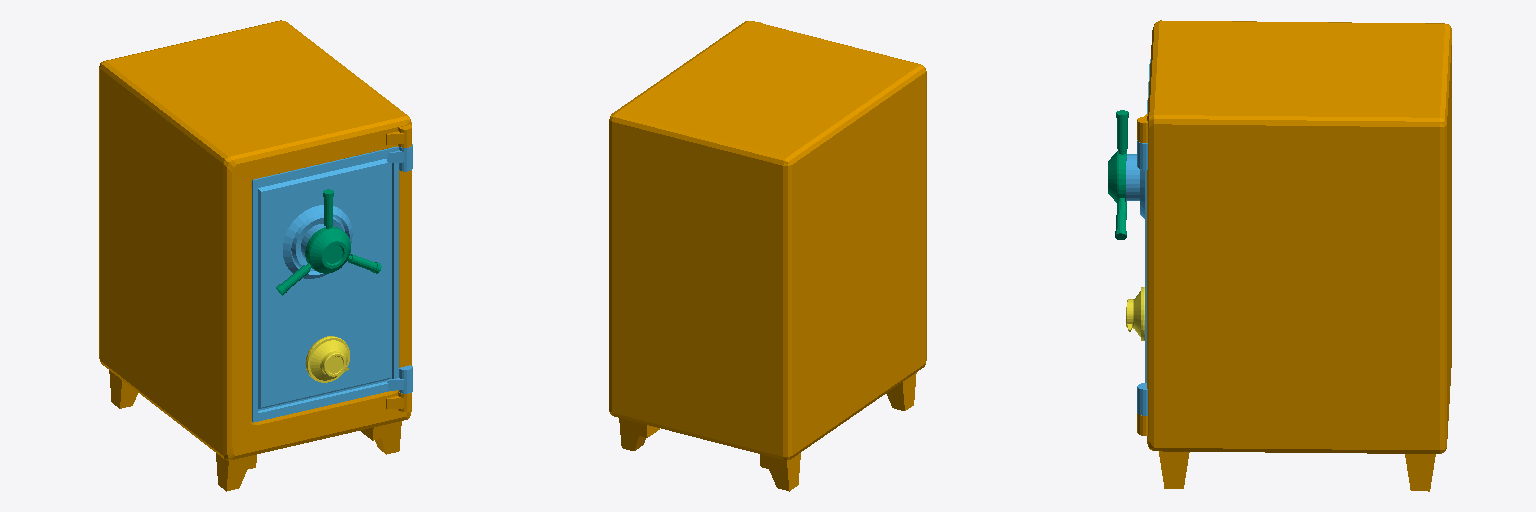
URDF robot description (safe):
<?xml version='1.0' encoding='utf-8'?>
<robot name="safe">
  <link name="link_1_base">
    <inertial>
      <origin xyz="0.000736521 0.0253936 0.00323576" rpy="0 0 0" />
      <mass value="60" />
      <inertia ixx="2.72575" ixy="0.00165928" ixz="-0.000939168" iyy="2.34677" iyz="0.00370472" izz="1.54771" />
    </inertial>
    <visual>
      <origin xyz="-0.000000 -0.000000 -0.000000" rpy="0 0 0" />
      <geometry>
        <mesh filename="objs/1_base__Safe.obj" />
      </geometry>
    </visual>
    <visual>
      <origin xyz="-0.000000 -0.000000 -0.000000" rpy="0 0 0" />
      <geometry>
        <mesh filename="objs/1_base__lambert2SG.obj" />
      </geometry>
    </visual>
    <collision>
      <origin xyz="0 0.20755 0" rpy="0 0 0" />
      <geometry>
        <box size="0.3538 0.0851 0.6" />
      </geometry>
    </collision>
    <collision>
      <origin xyz="-0.16145 -0.02105 0" rpy="0 0 0" />
      <geometry>
        <box size="0.0309 0.3721 0.6" />
      </geometry>
    </collision>
    <collision>
      <origin xyz="0.16145 -0.02105 0" rpy="0 0 0" />
      <geometry>
        <box size="0.0309 0.3721 0.6" />
      </geometry>
    </collision>
    <collision>
      <origin xyz="0 -0.02105 0.2895" rpy="0 0 0" />
      <geometry>
        <box size="0.292 0.3721 0.021" />
      </geometry>
    </collision>
    <collision>
      <origin xyz="0 -0.02105 -0.2405" rpy="0 0 0" />
      <geometry>
        <box size="0.292 0.3721 0.119" />
      </geometry>
    </collision>
  </link>
  <link name="link_2_door">
    <inertial>
      <origin xyz="-0.126866 0.0197419 0.00325622" rpy="0 0 0" />
      <mass value="12" />
      <inertia ixx="0.156881" ixy="0.00261354" ixz="0.00180437" iyy="0.218659" iyz="0.00152821" izz="0.0688513" />
    </inertial>
    <visual>
      <origin xyz="-0.141823 0.203192 -0.041625" rpy="0 0 0" />
      <geometry>
        <mesh filename="objs/2_door__clothes1.obj" />
      </geometry>
    </visual>
    <visual>
      <origin xyz="-0.141823 0.203192 -0.041625" rpy="0 0 0" />
      <geometry>
        <mesh filename="objs/2_door__outline1.obj" />
      </geometry>
    </visual>
    <visual>
      <origin xyz="-0.141823 0.203192 -0.041625" rpy="0 0 0" />
      <geometry>
        <mesh filename="objs/2_door__Material.007.obj" />
      </geometry>
    </visual>
    <visual>
      <origin xyz="-0.141823 0.203192 -0.041625" rpy="0 0 0" />
      <geometry>
        <mesh filename="objs/2_door__SVGMat.086.obj" />
      </geometry>
    </visual>
    <visual>
      <origin xyz="-0.141823 0.203192 -0.041625" rpy="0 0 0" />
      <geometry>
        <mesh filename="objs/2_door__skin.obj" />
      </geometry>
    </visual>
    <visual>
      <origin xyz="-0.141823 0.203192 -0.041625" rpy="0 0 0" />
      <geometry>
        <mesh filename="objs/2_door__details.obj" />
      </geometry>
    </visual>
    <visual>
      <origin xyz="-0.141823 0.203192 -0.041625" rpy="0 0 0" />
      <geometry>
        <mesh filename="objs/2_door__lambert2SG.obj" />
      </geometry>
    </visual>
    <visual>
      <origin xyz="-0.141823 0.203192 -0.041625" rpy="0 0 0" />
      <geometry>
        <mesh filename="objs/2_door__Safe.obj" />
      </geometry>
    </visual>
    <collision>
      <origin xyz="-0.126673 0.0286924 -0.00367523" rpy="0 0 0" />
      <geometry>
        <box size="0.2907 0.041 0.4355" />
      </geometry>
    </collision>
    <collision>
      <origin xyz="-0.155123 -0.00740762 0.0791748" rpy="1.5708 0 0" />
      <geometry>
        <cylinder radius="0.039" length="0.0256" />
      </geometry>
    </collision>
  </link>
  <link name="link_3_handle">
    <inertial>
      <origin xyz="0.000565301 0.00525563 -0.00136452" rpy="0 0 0" />
      <mass value="0.8" />
      <inertia ixx="0.00120928" ixy="2.64866e-05" ixz="7.74323e-08" iyy="0.00233235" iyz="7.2514e-07" izz="0.0012086" />
    </inertial>
    <visual>
      <origin xyz="0.013587 0.236831 -0.121368" rpy="0 0 0" />
      <geometry>
        <mesh filename="objs/3_handle__lambert2SG.obj" />
      </geometry>
    </visual>
    <visual>
      <origin xyz="0.013587 0.236831 -0.121368" rpy="0 0 0" />
      <geometry>
        <mesh filename="objs/3_handle__Safe.obj" />
      </geometry>
    </visual>
    <collision>
      <origin xyz="0 0 0" rpy="0 0 0" />
      <geometry>
        <mesh filename="collision/link_3_handle/link_3_handle_0.obj" />
      </geometry>
    </collision>
    <collision>
      <origin xyz="0 0 0" rpy="0 0 0" />
      <geometry>
        <mesh filename="collision/link_3_handle/link_3_handle_1.obj" />
      </geometry>
    </collision>
    <collision>
      <origin xyz="0 0 0" rpy="0 0 0" />
      <geometry>
        <mesh filename="collision/link_3_handle/link_3_handle_2.obj" />
      </geometry>
    </collision>
    <collision>
      <origin xyz="0 0 0" rpy="0 0 0" />
      <geometry>
        <mesh filename="collision/link_3_handle/link_3_handle_3.obj" />
      </geometry>
    </collision>
    <collision>
      <origin xyz="0 0 0" rpy="0 0 0" />
      <geometry>
        <mesh filename="collision/link_3_handle/link_3_handle_4.obj" />
      </geometry>
    </collision>
    <collision>
      <origin xyz="0 0 0" rpy="0 0 0" />
      <geometry>
        <mesh filename="collision/link_3_handle/link_3_handle_5.obj" />
      </geometry>
    </collision>
    <collision>
      <origin xyz="0 0 0" rpy="0 0 0" />
      <geometry>
        <mesh filename="collision/link_3_handle/link_3_handle_6.obj" />
      </geometry>
    </collision>
    <collision>
      <origin xyz="0 0 0" rpy="0 0 0" />
      <geometry>
        <mesh filename="collision/link_3_handle/link_3_handle_7.obj" />
      </geometry>
    </collision>
    <collision>
      <origin xyz="0 0 0" rpy="0 0 0" />
      <geometry>
        <mesh filename="collision/link_3_handle/link_3_handle_8.obj" />
      </geometry>
    </collision>
    <collision>
      <origin xyz="0 0 0" rpy="0 0 0" />
      <geometry>
        <mesh filename="collision/link_3_handle/link_3_handle_9.obj" />
      </geometry>
    </collision>
  </link>
  <link name="link_4_dial_lock">
    <inertial>
      <origin xyz="2.23445e-05 0.00312264 -0.000102733" rpy="0 0 0" />
      <mass value="0.15" />
      <inertia ixx="5.48795e-05" ixy="1.39771e-06" ixz="8.64965e-07" iyy="9.23954e-05" iyz="-3.09701e-07" izz="5.58295e-05" />
    </inertial>
    <visual>
      <origin xyz="-0.004134 0.207767 0.089971" rpy="0 0 0" />
      <geometry>
        <mesh filename="objs/4_dial_lock__Safe.obj" />
      </geometry>
    </visual>
    <collision>
      <origin xyz="-0.00018431 0.00036705 0.0001209" rpy="1.5708 0 0" />
      <geometry>
        <cylinder radius="0.03975" length="0.031" />
      </geometry>
    </collision>
  </link>
  <link name="link_5_shelf">
    <inertial>
      <origin xyz="-0.0001104 0.0411734 0.0986736" rpy="0 0 0" />
      <mass value="1" />
      <inertia ixx="0.0115987" ixy="-6.75682e-05" ixz="6.33419e-11" iyy="0.00878261" iyz="2.64148e-09" izz="0.0203716" />
    </inertial>
    <visual>
      <origin xyz="-0.000000 -0.000000 -0.000000" rpy="0 0 0" />
      <geometry>
        <mesh filename="objs/5_shelf__lambert2SG.obj" />
      </geometry>
    </visual>
    <collision>
      <origin xyz="0 0.04115 0.0987" rpy="0 0 0" />
      <geometry>
        <box size="0.3334 0.3807 0.0076" />
      </geometry>
    </collision>
  </link>
  <link name="link_6_shelf">
    <inertial>
      <origin xyz="-0.00011041 0.0411731 -0.0259452" rpy="0 0 0" />
      <mass value="1" />
      <inertia ixx="0.0116052" ixy="-6.75678e-05" ixz="5.67334e-11" iyy="0.00878905" iyz="2.32824e-09" izz="0.0203716" />
    </inertial>
    <visual>
      <origin xyz="-0.000000 -0.000000 -0.000000" rpy="0 0 0" />
      <geometry>
        <mesh filename="objs/6_shelf__lambert2SG.obj" />
      </geometry>
    </visual>
    <collision>
      <origin xyz="0 0.04115 -0.02595" rpy="0 0 0" />
      <geometry>
        <box size="0.3334 0.3807 0.0117" />
      </geometry>
    </collision>
  </link>
  <joint name="joint_2_to_1" type="revolute">
    <parent link="link_1_base" />
    <child link="link_2_door" />
    <origin xyz="0.14182338282039006 -0.2031923781376853 0.04162522724744737" rpy="0 0 0" />
    <axis xyz="0.0 6.123233995736766e-17 1.0" />
    <limit lower="0.0" upper="1.5707963267948966" effort="200" velocity="5.0" />
    <dynamics damping="5" friction="3" />
  </joint>
  <joint name="joint_3_to_2" type="revolute">
    <parent link="link_2_door" />
    <child link="link_3_handle" />
    <origin xyz="-0.15541042031830293 -0.03363812861737381 0.0797423121375244" rpy="0 0 0" />
    <axis xyz="0.0239727464990573 0.9997126124168345 -6.121474254317575e-17" />
    <limit lower="-3.141592653589793" upper="3.141592653589793" effort="50" velocity="5.0" />
    <dynamics damping="0.2" friction="0.3" />
  </joint>
  <joint name="joint_4_to_2" type="continuous">
    <parent link="link_2_door" />
    <child link="link_4_dial_lock" />
    <origin xyz="-0.1376890652247409 -0.004574665114765647 -0.1315961310156849" rpy="0 0 0" />
    <axis xyz="0.041541431785496415 0.999127160954473 -0.00438471073911912" />
    <limit effort="5" />
    <dynamics damping="0.02" friction="0.02" />
  </joint>
  <joint name="joint_5_to_1" type="fixed">
    <parent link="link_1_base" />
    <child link="link_5_shelf" />
    <origin xyz="0.000000 0.000000 0.000000" rpy="0.000000 -0.000000 0.000000" />
  </joint>
  <joint name="joint_6_to_1" type="fixed">
    <parent link="link_1_base" />
    <child link="link_6_shelf" />
    <origin xyz="0.000000 0.000000 0.000000" rpy="0.000000 -0.000000 0.000000" />
  </joint>
</robot>

--- What the picture shows (computed from the rendered views, not written in the file) ---
Views: 3 orthographic renders of the robot side by side, from view 1: azimuth 30°, elevation 25°; view 2: azimuth 150°, elevation 25°; view 3: azimuth 270°, elevation 25°.
Robot: safe — 6 links, 5 joints (2 revolute, 1 continuous, 2 fixed); root link link_1_base; default pose: every joint at zero.
Visible links, largest first — view 1: link_1_base, link_2_door, link_3_handle, link_4_dial_lock; view 2: link_1_base; view 3: link_1_base, link_2_door, link_3_handle, link_4_dial_lock.
Link boxes in pixels (x1,y1,x2,y2): link_1_base: [99, 20, 411, 491]; link_2_door: [252, 144, 412, 422]; link_3_handle: [276, 189, 381, 295]; link_4_dial_lock: [305, 336, 349, 382]; link_1_base: [609, 21, 926, 491]; link_1_base: [1137, 20, 1451, 491]; link_2_door: [1126, 59, 1150, 415]; link_3_handle: [1108, 110, 1128, 239]; link_4_dial_lock: [1126, 287, 1144, 340].
Bounding box of the posed robot: 0.3538 × 0.5001 × 0.6 m (x, y, z).
15 mesh visuals loaded from 15 distinct referenced files (15 OBJ).
